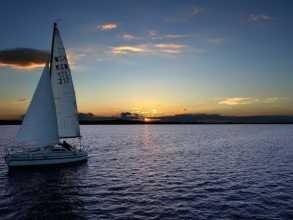fanchuan: (5, 22, 95, 169)
